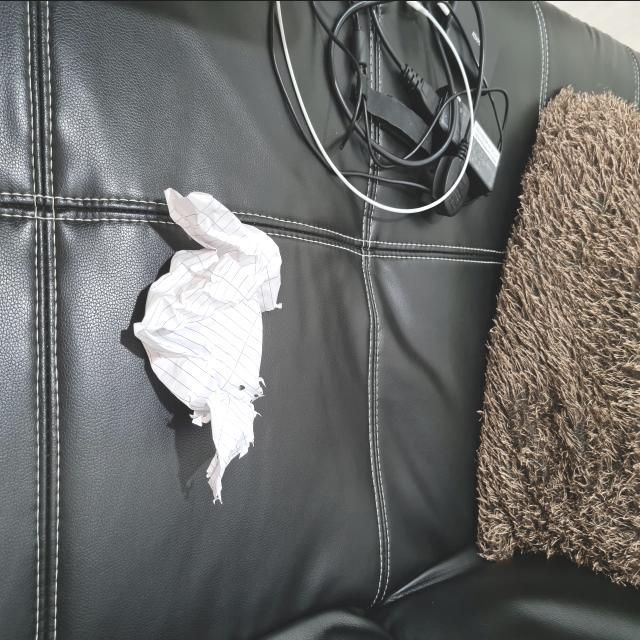Paper: (131, 184, 282, 500)
